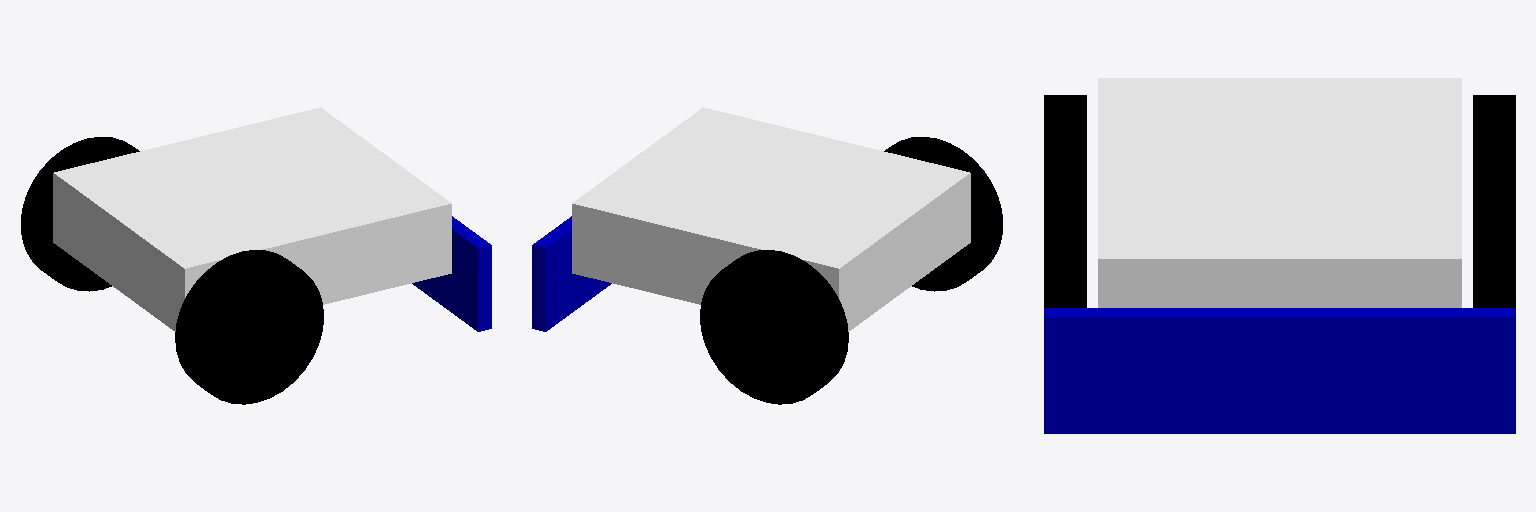
robot.urdf — test_robot:
<robot name="test_robot">

  <!-- Base Link -->
  <link name="base_link">
    <visual>
      <geometry>
        <box size="0.20 0.17 0.05"/>
      </geometry>
      <origin rpy="0 0 0" xyz="0 0 0.07"/>
      <material name="white">
        <color rgba="1 1 1 1"/>
      </material>
    </visual>
    <collision>
      <geometry>
        <box size="0.20 0.17 0.05"/>
      </geometry>
      <origin rpy="0 0 0" xyz="0 0 0.045"/>
    </collision>
    <inertial>
      <origin xyz="0 0 0.045" rpy="0 0 0"/>
      <mass value="1.0"/>
      <inertia ixx="0.002" ixy="0.0" ixz="0.0" iyy="0.001" iyz="0.0" izz="0.003"/>
    </inertial>
  </link>

  <!-- Front Wheel -->
  <!--link name="front_wheel">
    <visual>
      <geometry>
        <sphere radius="0.02"/>
      </geometry>
      <origin rpy="0 0 0" xyz="0 0 0.0"/>
      <material name="grey">
        <color rgba="0.5 0.5 0.5 1"/>
      </material>
    </visual>
    <collision>
      <geometry>
        <sphere radius="0.02"/>
      </geometry>
      <origin rpy="0 0 0" xyz="0 0 0"/>
    </collision>
    <inertial>
      <origin xyz="0 0 0" rpy="0 0 0"/>
      <mass value="0.1"/>
      <inertia ixx="0.00002" ixy="0.0" ixz="0.0" iyy="0.00002" iyz="0.0" izz="0.0003"/>
    </inertial>
  </link-->

  <!-- Fixed Joint for Front Wheel -->
  <!--joint name="base_to_front_wheel" type="fixed">
    <parent link="base_link"/>
    <child link="front_wheel"/>
    <origin xyz="0.05 0 0.04" rpy="0 0 0"/>
  </joint-->

  <!-- Left Wheel (Moved to the back) -->
  <link name="lwheel">
    <visual>
      <geometry>
        <cylinder length="0.02" radius="0.05"/>
      </geometry>
      <origin rpy="0 0 0" xyz="0 0 0"/>
      <material name="black">
        <color rgba="0 0 0 1"/>
      </material>
    </visual>
    <collision>
      <geometry>
        <cylinder length="0.02" radius="0.05"/>
      </geometry>
      <origin rpy="0 0 0" xyz="0 0 0"/>
    </collision>
    <inertial>
      <origin xyz="0 0 0" rpy="0 0 0"/>
      <mass value="0.2"/>
      <inertia ixx="0.000037" ixy="0.0" ixz="0.0" iyy="0.000037" iyz="0.0" izz="0.00049"/>
    </inertial>
  </link>

  <!-- Rotational Joint for Left Wheel -->
  <joint name="base_to_lwheel" type="continuous">
    <parent link="base_link"/>
    <child link="lwheel"/>
    <origin xyz="-0.06 0.1 0.05" rpy="1.5708 0 0"/>
    <axis xyz="0 0 1"/> <!-- Rotate around Z-axis -->
  </joint>

  <!-- Right Wheel (Moved to the back) -->
  <link name="rwheel">
    <visual>
      <geometry>
        <cylinder length="0.02" radius="0.05"/>
      </geometry>
      <origin rpy="0 0 0" xyz="0 0 0"/>
      <material name="black">
        <color rgba="0 0 0 1"/>
      </material>
    </visual>
    <collision>
      <geometry>
        <cylinder length="0.02" radius="0.05"/>
      </geometry>
      <origin rpy="0 0 0" xyz="0 0 0"/>
    </collision>
    <inertial>
      <origin xyz="0 0 0" rpy="0 0 0"/>
      <mass value="0.2"/>
      <inertia ixx="0.000037" ixy="0.0" ixz="0.0" iyy="0.000037" iyz="0.0" izz="0.00049"/>
    </inertial>
  </link>

  <!-- Rotational Joint for Right Wheel -->
  <joint name="base_to_rwheel" type="continuous">
    <parent link="base_link"/>
    <child link="rwheel"/>
    <origin xyz="-0.06 -0.1 0.05" rpy="1.5708 0 0"/>
    <axis xyz="0 0 1"/> <!-- Rotate around Z-axis -->
  </joint>


   <!-- Front Wheel Attachment -->
  <link name="shovel">
    <visual>
      <geometry>
        <box size="0.01 0.22 0.06"/>
      </geometry>
      <origin rpy="0 0 0" xyz="0 0 0"/>
      <material name="blue">
        <color rgba="0 0 0.8 1"/>
      </material>
    </visual>
    <collision>
      <geometry>
        <box size="0.01 0.22 0.06"/>
      </geometry>
      <origin rpy="0 0 0" xyz="0 0 0"/>
    </collision>
    <inertial>
      <origin xyz="0 0 0" rpy="0 0 0"/>
      <mass value="0.3"/>
      <inertia ixx="0.0001" ixy="0.0" ixz="0.0" iyy="0.0001" iyz="0.0" izz="0.0002"/>
    </inertial>
  </link>

  <joint name="base_to_fattach" type="fixed">
    <parent link="base_link"/>
    <child link="shovel"/>
    <origin xyz="0.11 0 0.042" rpy="0 0 0"/>
  </joint>
  

</robot>

--- Render facts (derived) ---
3 views of the same robot in one strip: view 1: azimuth 30°, elevation 25°; view 2: azimuth 150°, elevation 25°; view 3: azimuth 270°, elevation 25° (orthographic).
Robot: test_robot — 4 links, 3 joints (2 continuous, 1 fixed); root link base_link; default pose: all joints at 0.
Links seen in each view (by area): view 1: base_link, rwheel, lwheel, shovel; view 2: base_link, lwheel, rwheel, shovel; view 3: base_link, shovel, lwheel, rwheel.
Link boxes in pixels (x1,y1,x2,y2): base_link: (53, 107, 451, 331); rwheel: (175, 250, 323, 404); lwheel: (21, 137, 139, 291); shovel: (412, 216, 491, 331); base_link: (572, 107, 970, 331); lwheel: (700, 250, 848, 404); rwheel: (884, 137, 1002, 291); shovel: (532, 216, 611, 331); base_link: (1098, 78, 1461, 307); shovel: (1044, 308, 1515, 433); lwheel: (1473, 95, 1515, 307); rwheel: (1044, 95, 1086, 307).
Bounding box of the posed robot: 0.225 × 0.22 × 0.1 m (x, y, z).
Geometry: primitives only (box / cylinder / sphere), no mesh files.
